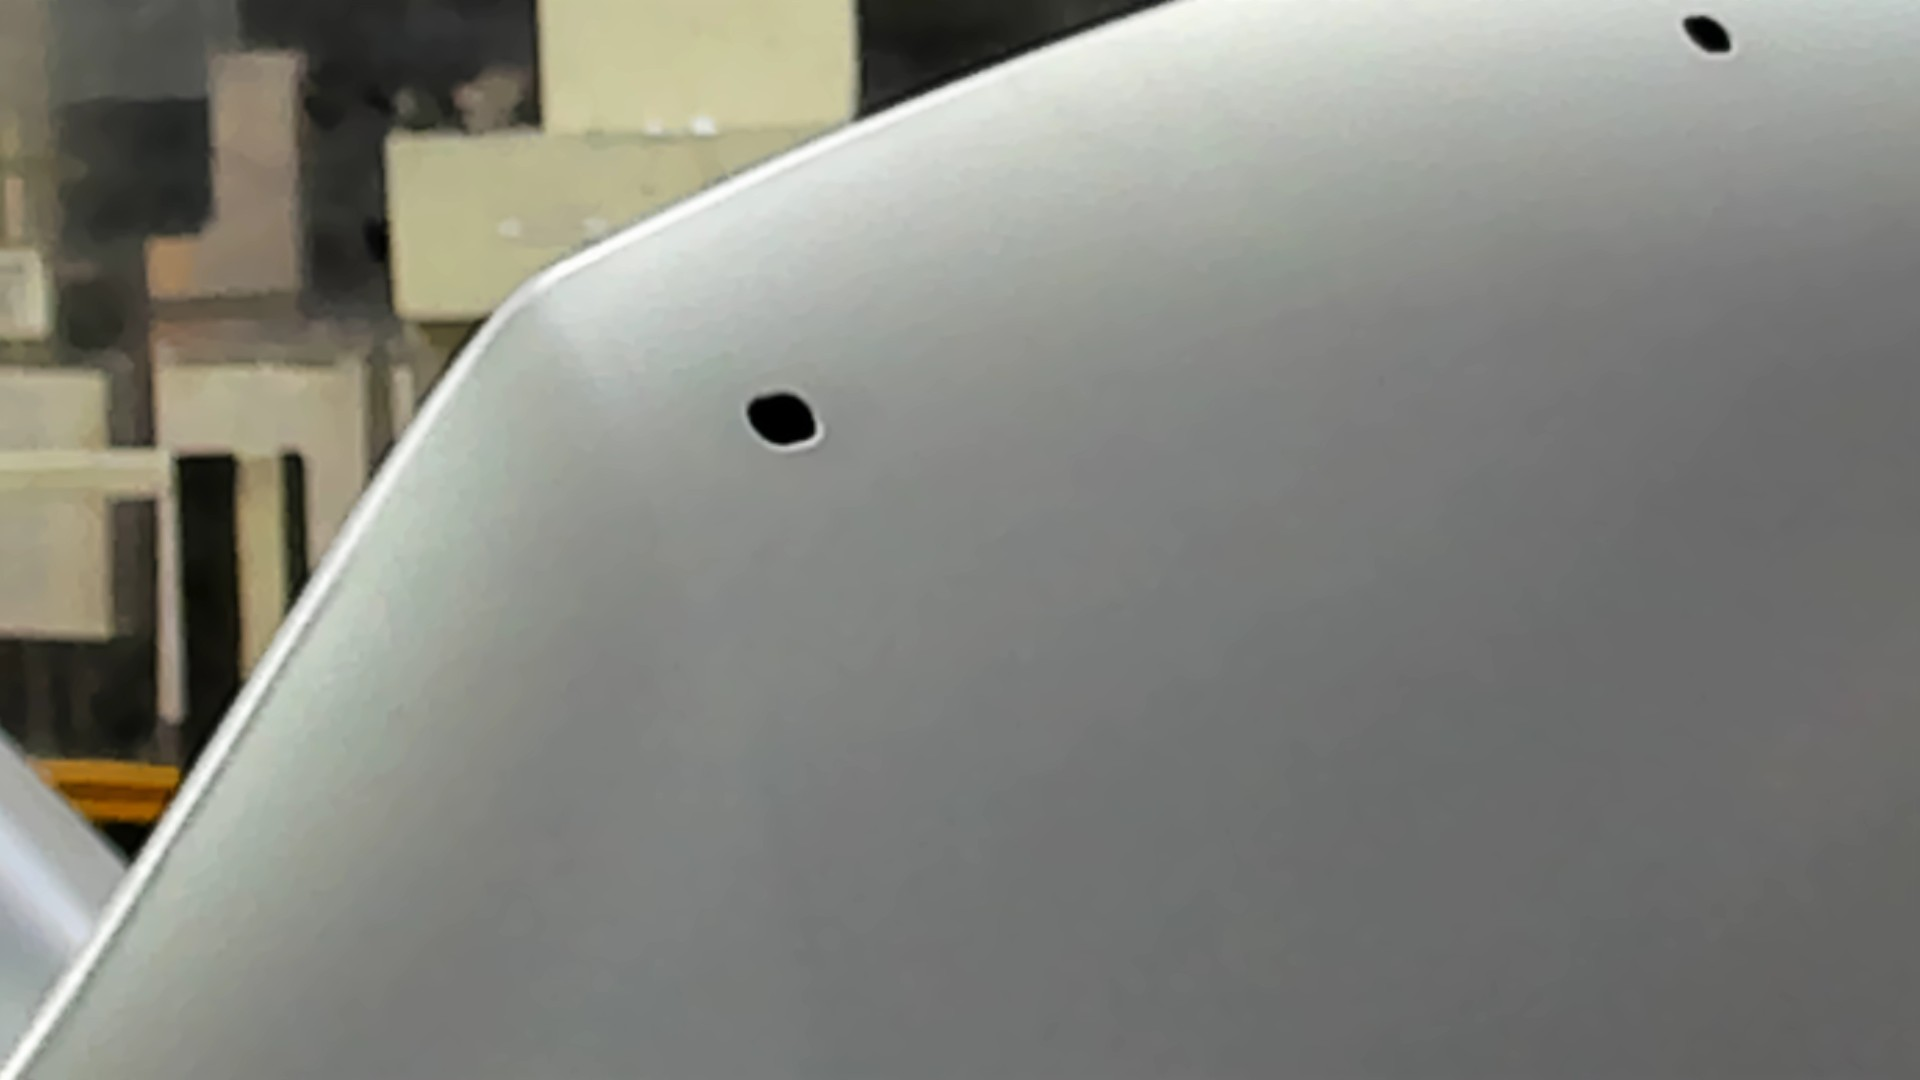amorfo: (738, 388, 825, 450), (1675, 11, 1747, 63)
